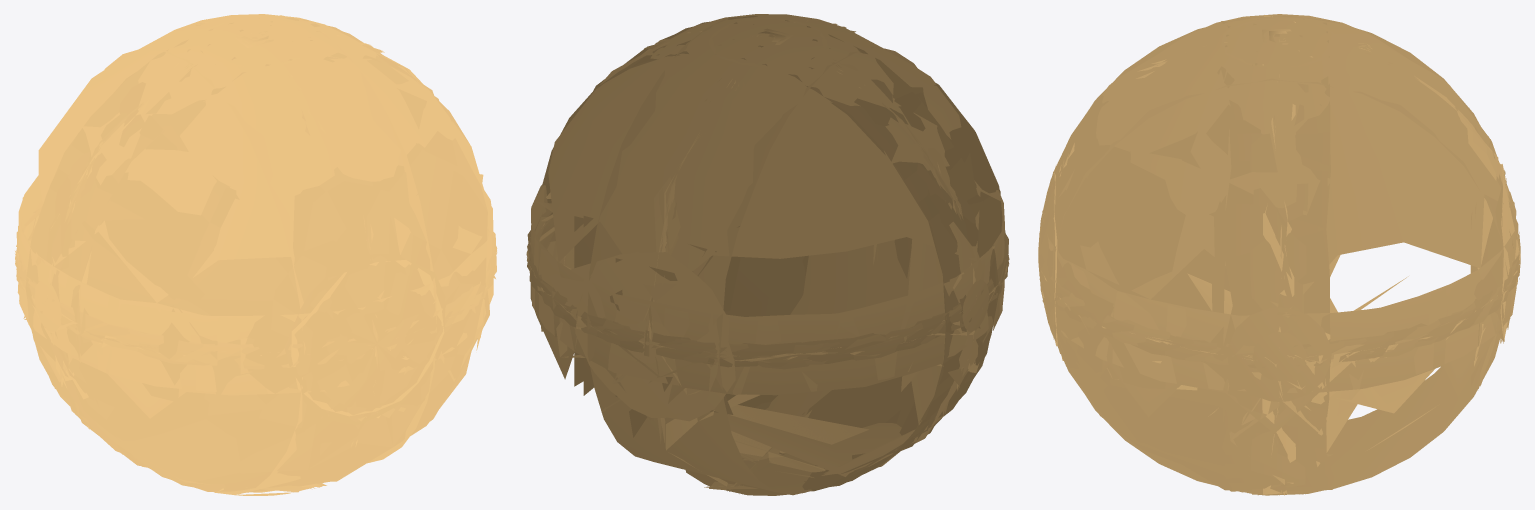
The picture shows the model from 3 angles, left to right: view 1: azimuth 30°, elevation 25°; view 2: azimuth 150°, elevation 25°; view 3: azimuth 270°, elevation 25°; orthographic projection.
Parts seen in each view (by area): view 1: 10-10-equipment; view 2: 10-10-equipment; view 3: 10-10-equipment.
Part boxes in pixels (left/top/right/bottom): 10-10-equipment: left=15, top=14, right=497, bottom=495; 10-10-equipment: left=526, top=14, right=1009, bottom=495; 10-10-equipment: left=1038, top=14, right=1520, bottom=495.
Bounding box in the file's own units: 2 × 2 × 2.
